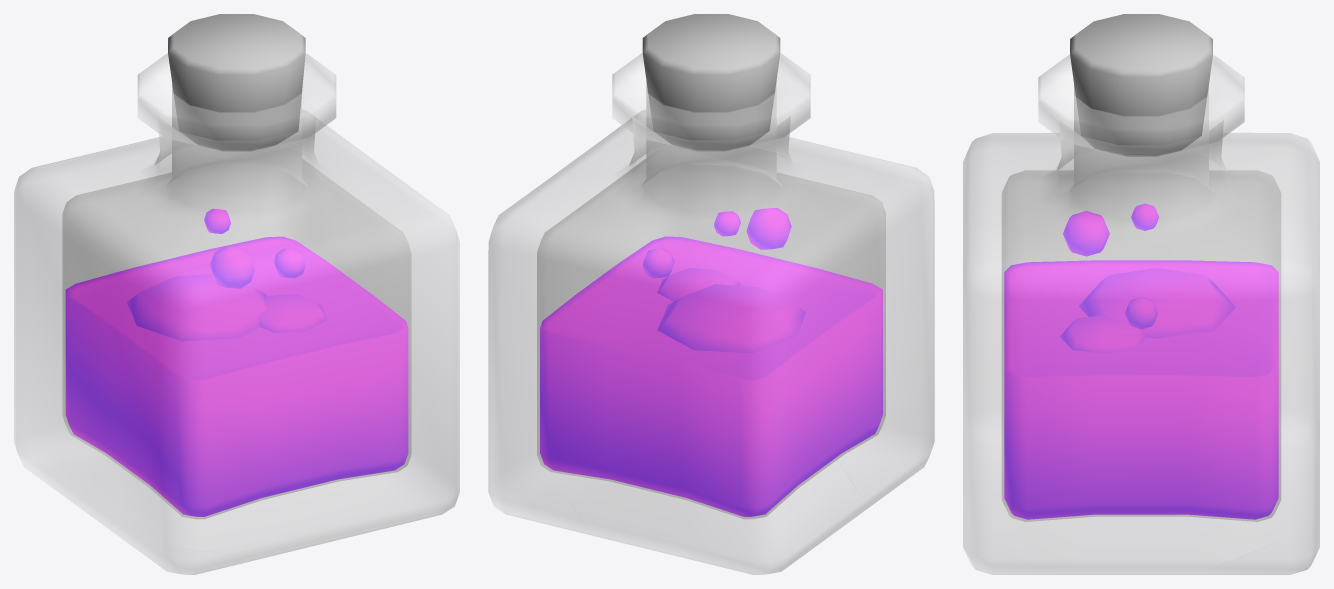
The picture shows the model from 3 angles, left to right: view 1: azimuth 30°, elevation 25°; view 2: azimuth 150°, elevation 25°; view 3: azimuth 270°, elevation 25°; orthographic projection. The views are drawn at different scales.
Visible parts, largest first — view 1: Glass_3, Interior Glass_2, Liquid_5, Cork_4, Cube_6, Cube.001_7, Cube.003_9, Cube.002_8; view 2: Glass_3, Interior Glass_2, Liquid_5, Cork_4, Cube_6, Cube.003_9, Cube.001_7, Cube.002_8; view 3: Glass_3, Interior Glass_2, Liquid_5, Cork_4, Cube_6, Cube.001_7, Cube.003_9, Cube.002_8, Cube.004_10.
Part boxes in pixels (x1,y1,x2,y2): Glass_3: (14, 53, 459, 574); Interior Glass_2: (62, 85, 411, 518); Liquid_5: (65, 236, 408, 516); Cork_4: (168, 14, 305, 151); Cube_6: (126, 274, 267, 341); Cube.001_7: (259, 294, 327, 332); Cube.003_9: (210, 246, 254, 288); Cube.002_8: (274, 248, 305, 278); Glass_3: (488, 53, 934, 574); Interior Glass_2: (537, 83, 885, 518); Liquid_5: (540, 236, 882, 516); Cork_4: (642, 14, 780, 151); Cube_6: (657, 284, 806, 353); Cube.003_9: (746, 208, 791, 249); Cube.001_7: (657, 268, 740, 301); Cube.002_8: (642, 248, 674, 278); Glass_3: (963, 55, 1319, 574); Interior Glass_2: (1002, 87, 1280, 521); Liquid_5: (1004, 260, 1278, 519); Cork_4: (1070, 14, 1212, 156); Cube_6: (1079, 268, 1235, 338); Cube.001_7: (1060, 315, 1145, 353); Cube.003_9: (1063, 211, 1109, 256); Cube.002_8: (1125, 297, 1157, 329); Cube.004_10: (1131, 204, 1158, 230).
Bounding box in the file's own units: 6.2 × 8.99 × 6.2.
